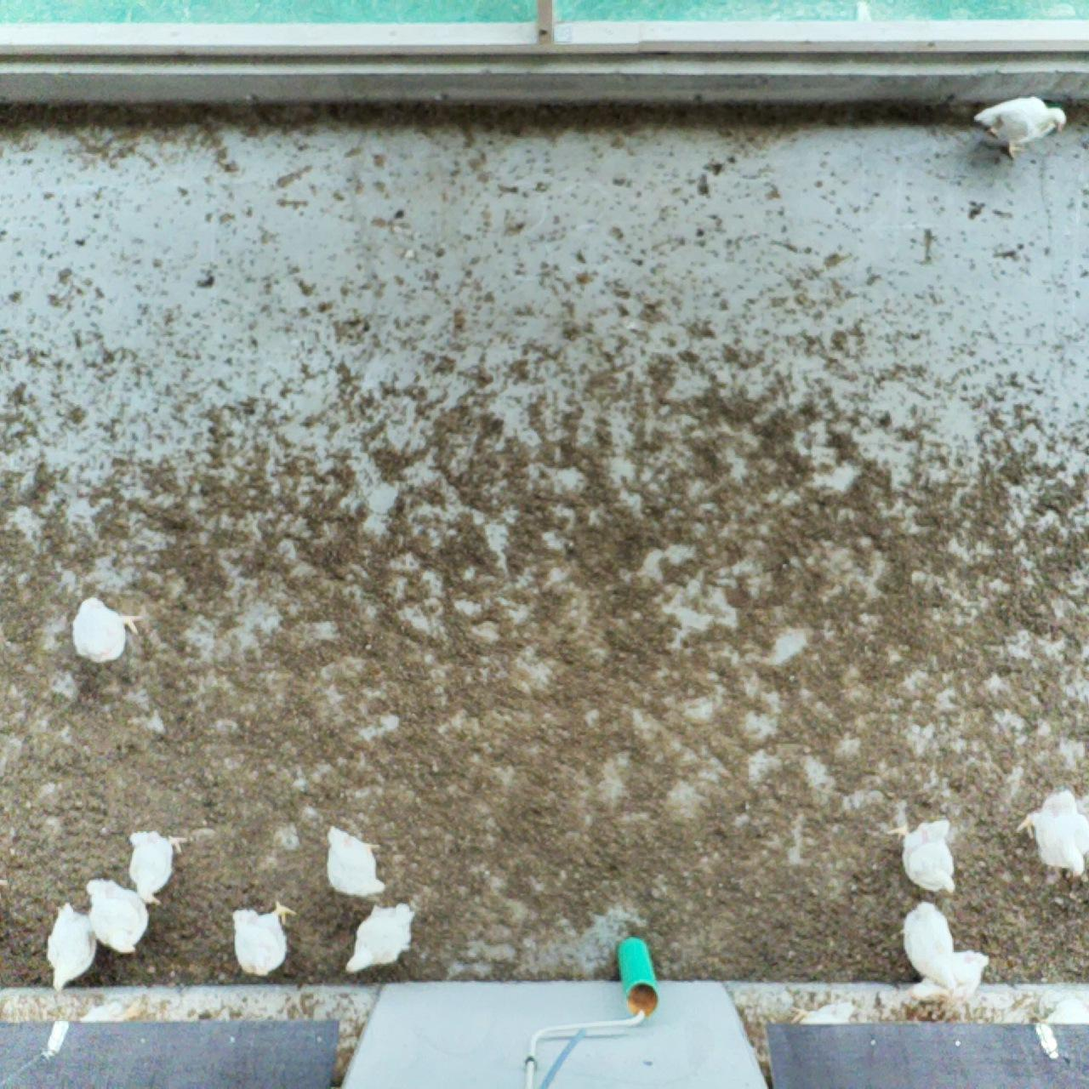chicken: (1012, 785, 1089, 886), (884, 811, 965, 901), (970, 91, 1072, 159), (898, 895, 962, 991), (342, 898, 417, 978), (84, 873, 152, 958), (69, 594, 145, 669), (42, 898, 100, 992), (322, 823, 391, 902), (230, 898, 299, 977), (126, 825, 189, 909), (905, 947, 990, 1005)
